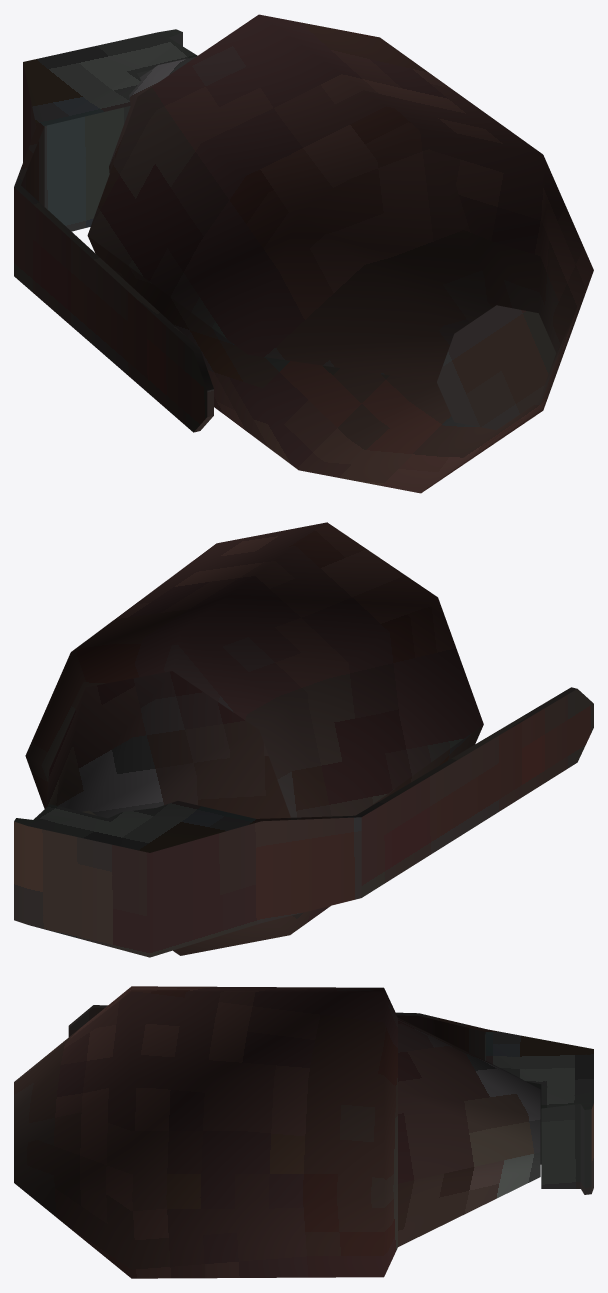
File: int_merc_grenade.glb
3 renders of one model, top to bottom at view 1: azimuth 30°, elevation 25°; view 2: azimuth 150°, elevation 25°; view 3: azimuth 270°, elevation 25°, orthographic. The views are drawn at different scales.
Visible parts, largest first — view 1: weapons/int_merc_grenade_0; view 2: weapons/int_merc_grenade_0; view 3: weapons/int_merc_grenade_0.
Part boxes in pixels (x1,y1,x2,y2): weapons/int_merc_grenade_0: (14, 14, 593, 493); weapons/int_merc_grenade_0: (14, 522, 593, 957); weapons/int_merc_grenade_0: (14, 986, 593, 1278).
Bounding box in the file's own units: 1.32 × 1.07 × 2.
1 material, 1 textured.
